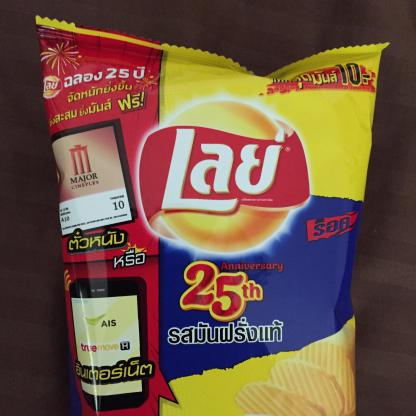potatochip: (27, 8, 396, 416)
